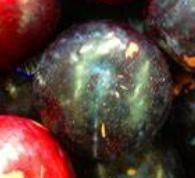plum_B: (32, 19, 175, 159)
